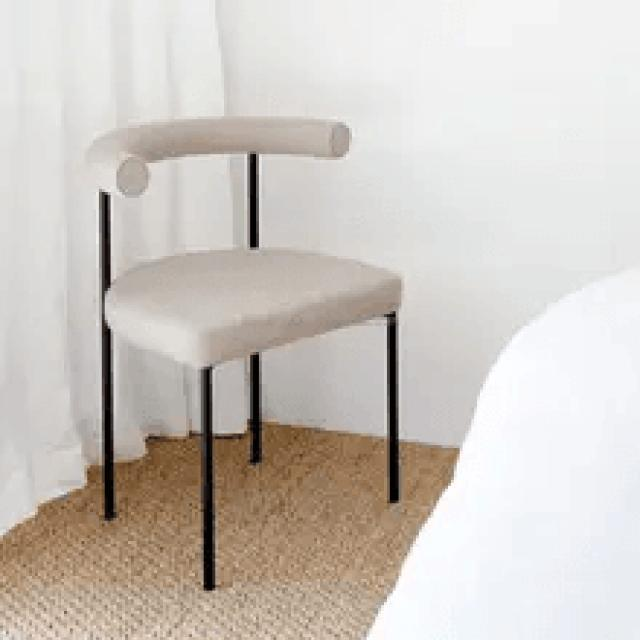chair: (80, 109, 408, 596), (81, 102, 422, 334)
